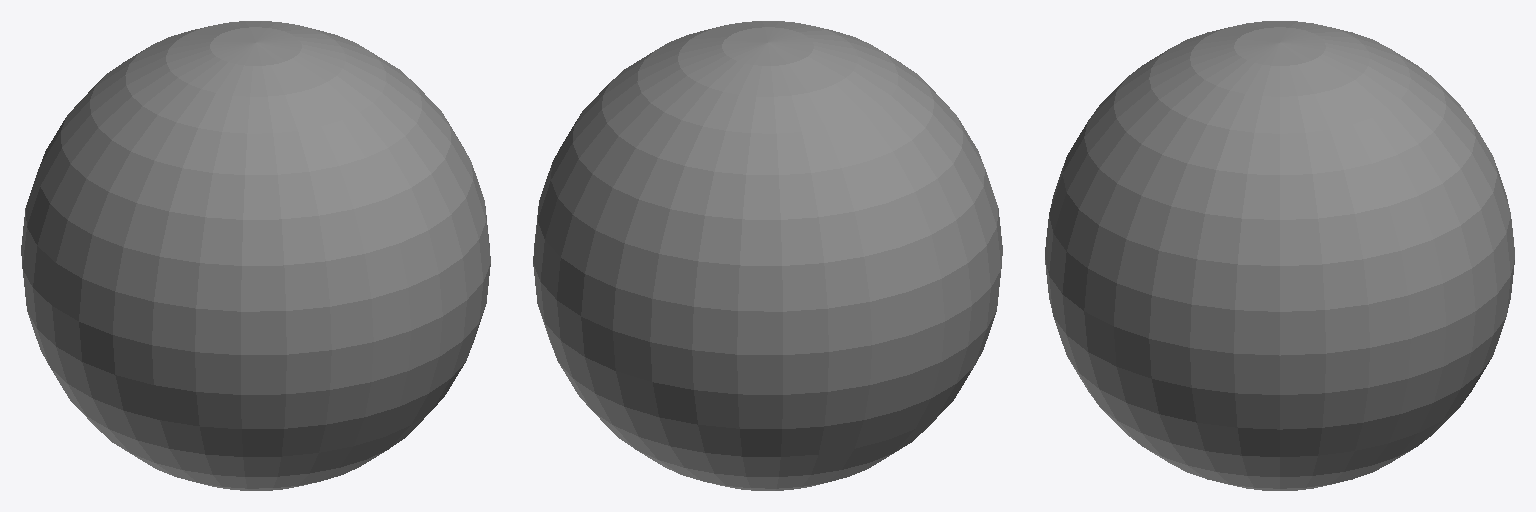
Rendered from head.obj.
The picture shows the model from 3 angles: view 1: azimuth 30°, elevation 25°; view 2: azimuth 150°, elevation 25°; view 3: azimuth 270°, elevation 25°; orthographic projection.
Parts seen in each view (by area): view 1: Sphere001; view 2: Sphere001; view 3: Sphere001.
Part boxes in pixels (bbox=[...]): Sphere001: bbox=[21, 21, 490, 490]; Sphere001: bbox=[533, 21, 1002, 490]; Sphere001: bbox=[1045, 21, 1514, 490].
Size of the model in its own units: 1000 by 1000 by 1000.